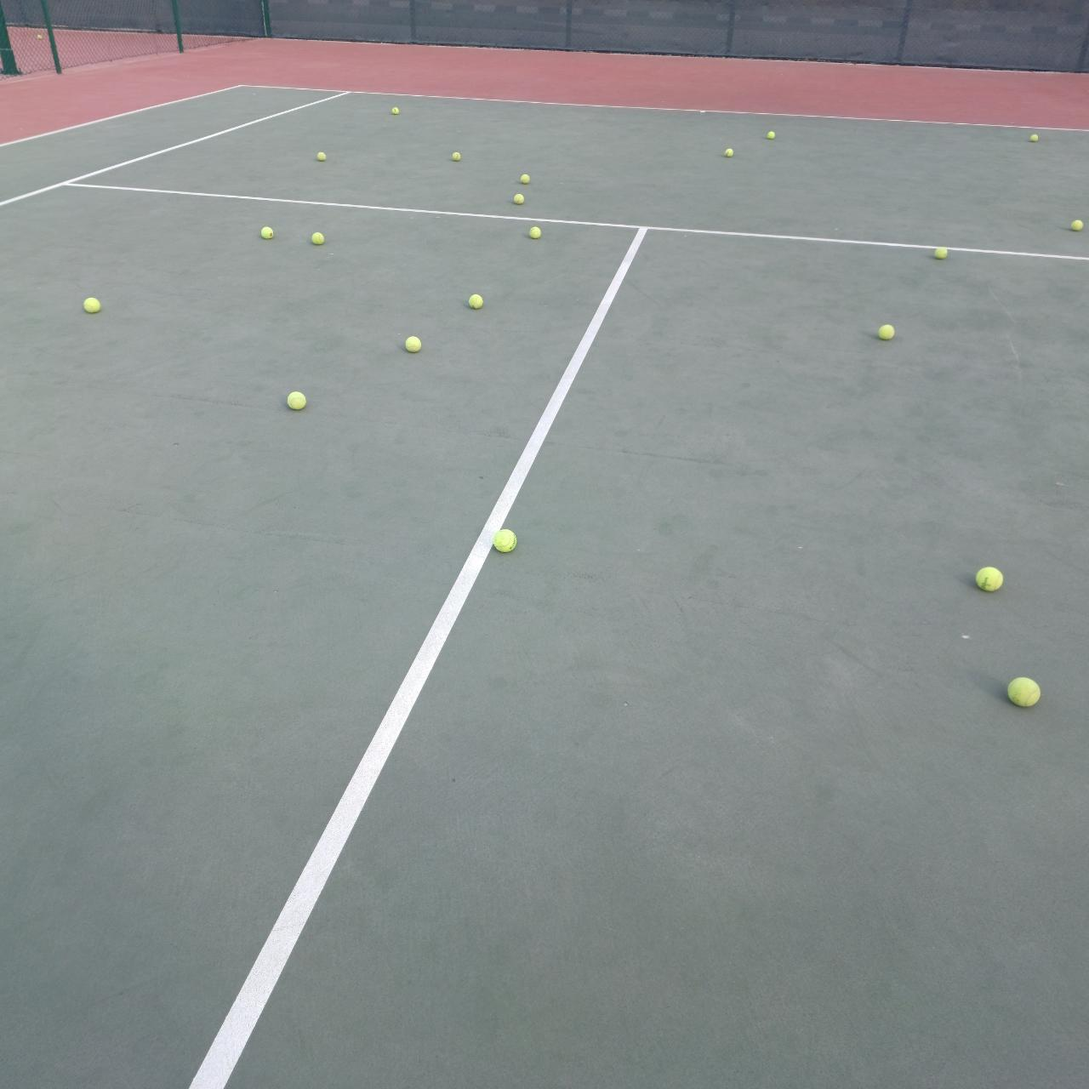tennis-ball: (1006, 674, 1041, 708), (974, 564, 1003, 591), (492, 527, 517, 553), (285, 389, 306, 410), (82, 294, 101, 314), (876, 322, 894, 339), (405, 335, 421, 352), (468, 294, 483, 309), (261, 227, 274, 240), (312, 231, 324, 245), (529, 227, 541, 239), (513, 193, 525, 205), (935, 248, 948, 259), (1072, 220, 1083, 231), (520, 174, 530, 185), (317, 152, 326, 162), (452, 153, 461, 161), (725, 148, 733, 157), (1030, 134, 1038, 142), (768, 131, 775, 140), (392, 107, 399, 115)
